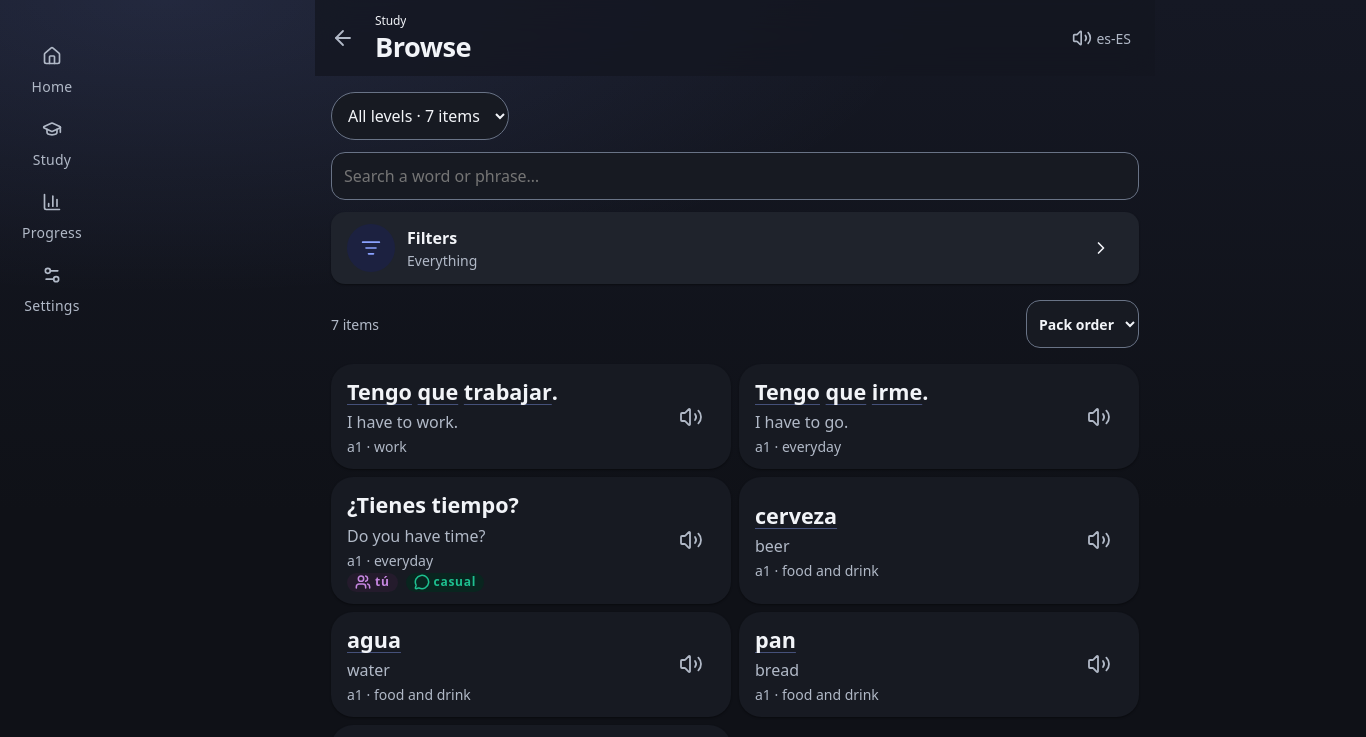
Scenario: the letter index › filters the results and reports the selection as ARIA state
Click the button with aria-label "Filters:": (371, 248) [331,212,1139,284]
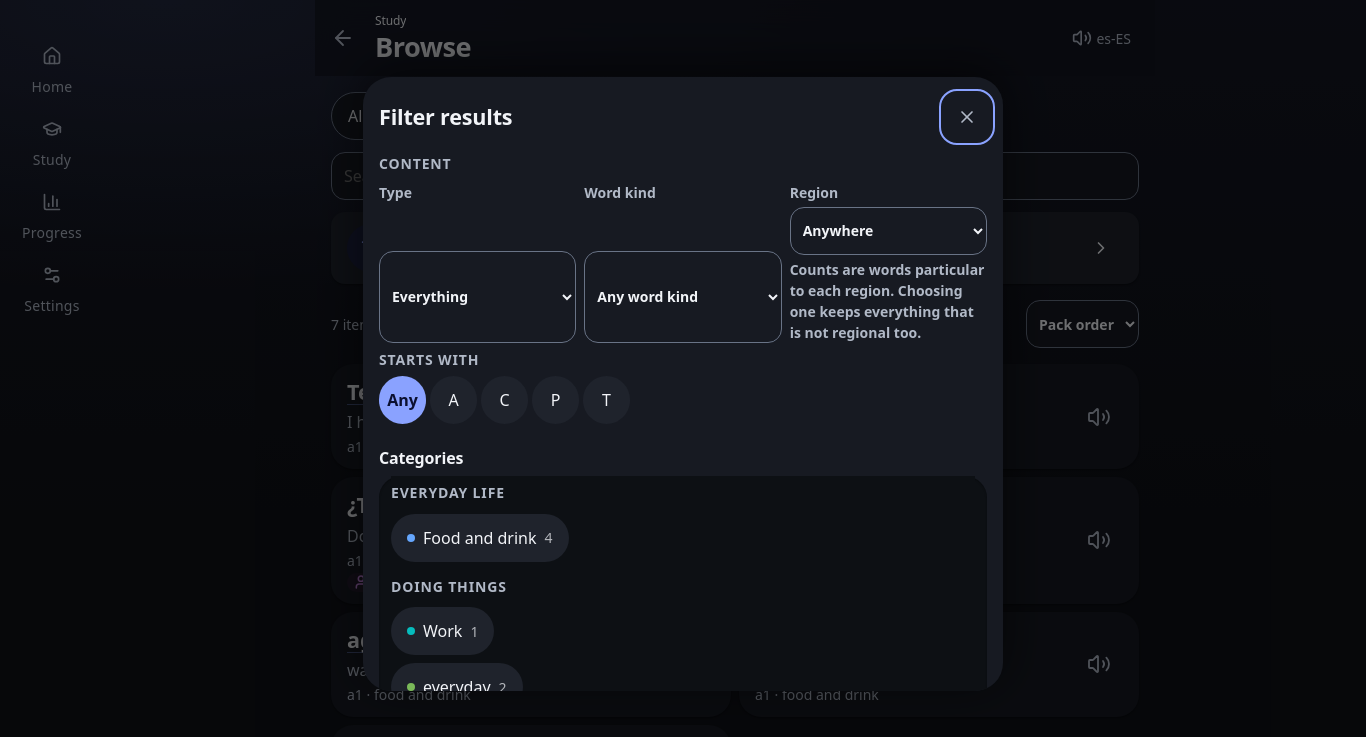
Click the button named "Starting with C": (504, 400) [481,376,528,424]
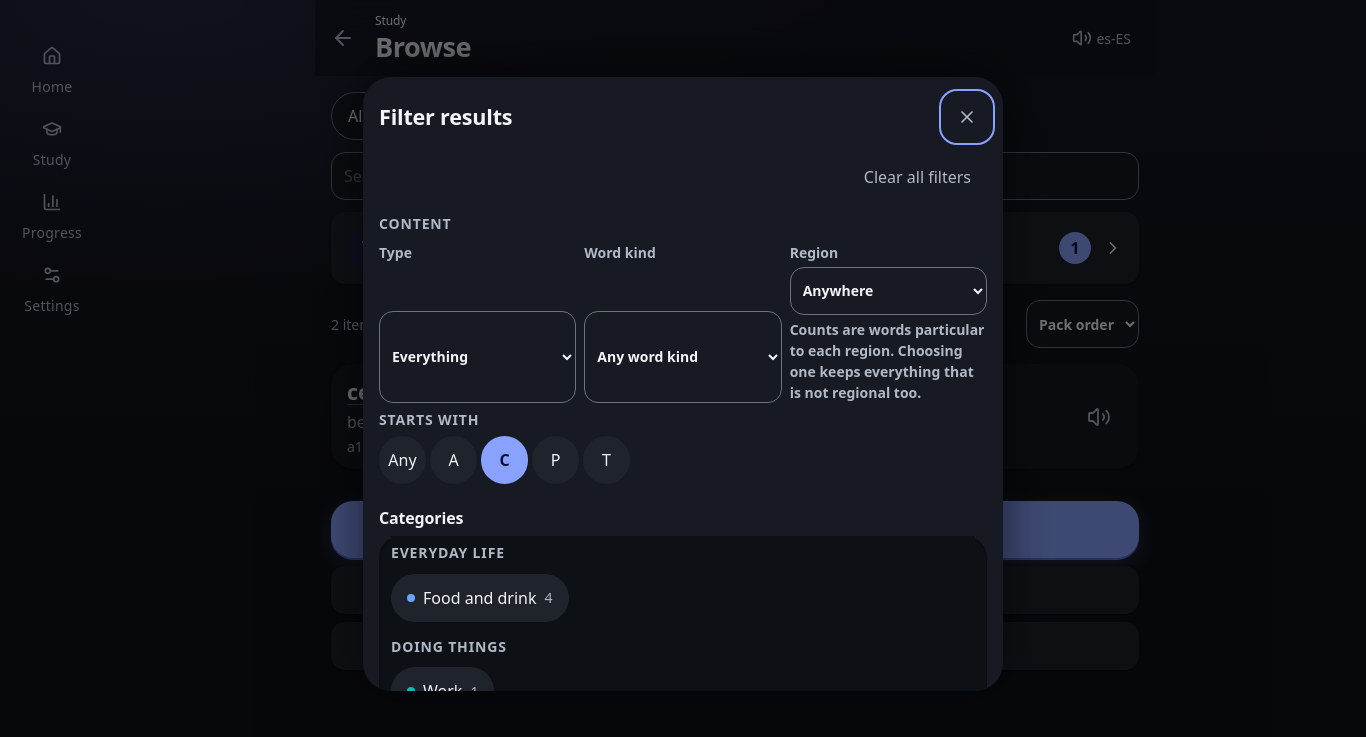
Result: the message reads "2 items" at [331,314,379,334]
Result: the button with aria-label "Filters: Starts with C, 1 active" is shown at [331,212,1139,284]
